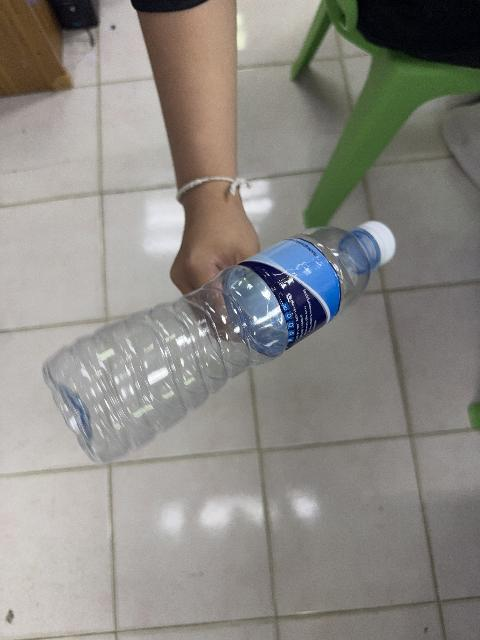bottle: (44, 222, 394, 463)
